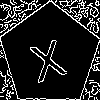X: (25, 30, 68, 83)
